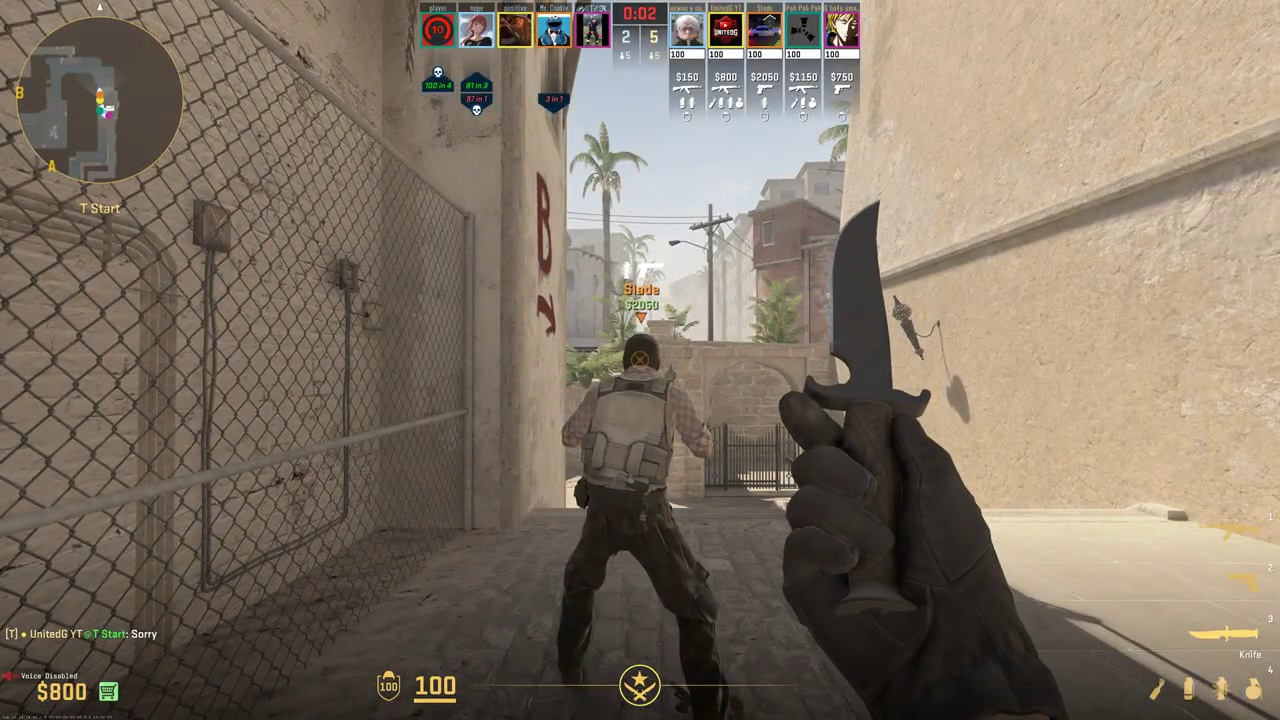Terrorist: (564, 334, 721, 720)
